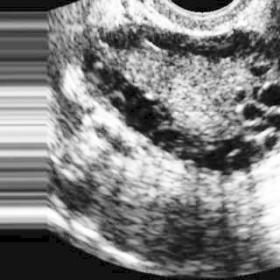PCOS: (148, 129, 187, 146), (258, 82, 280, 110), (78, 48, 100, 73), (236, 142, 254, 169), (132, 96, 166, 110), (240, 103, 265, 122), (248, 62, 277, 78), (258, 112, 280, 132), (106, 92, 123, 115), (263, 132, 280, 152)
